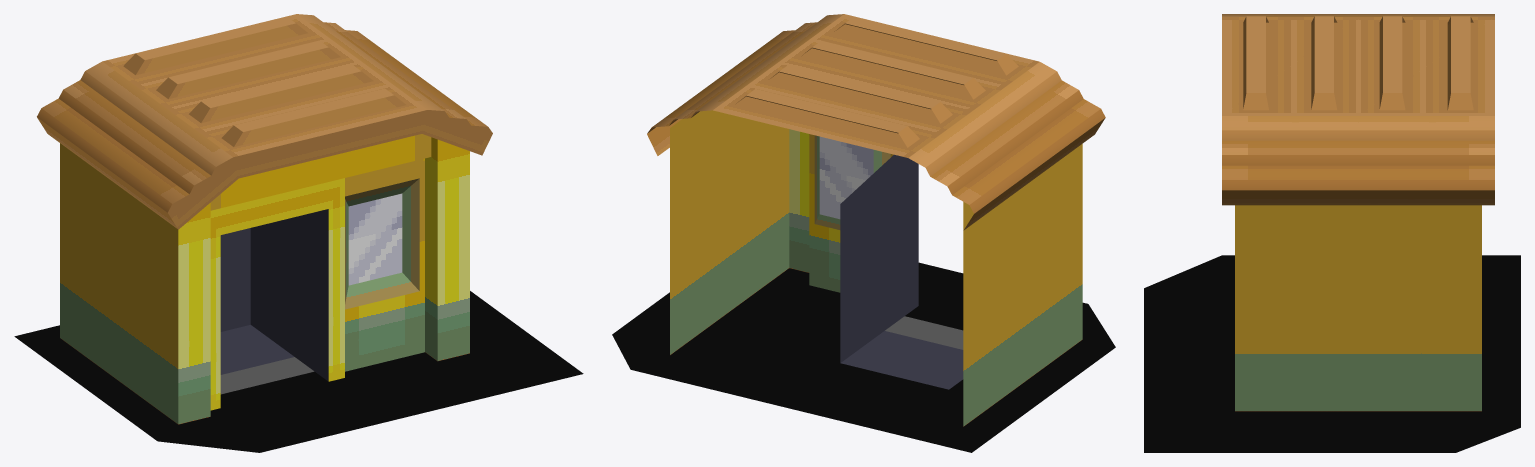
The model's file is mr._psychic_s_house_lev1.glb.
The picture shows the model from 3 angles, left to right: view 1: azimuth 30°, elevation 25°; view 2: azimuth 150°, elevation 25°; view 3: azimuth 270°, elevation 25°; orthographic projection. The views are drawn at different scales.
Parts seen in each view (by area): view 1: mr._psychic_s_house_lev1; view 2: mr._psychic_s_house_lev1; view 3: mr._psychic_s_house_lev1.
Boxes of the visible parts, x1,y1,x2,y2 form: mr._psychic_s_house_lev1: (14, 14, 583, 452); mr._psychic_s_house_lev1: (612, 14, 1115, 452); mr._psychic_s_house_lev1: (1144, 14, 1520, 452).
Bounding box in the file's own units: 22.68 × 15.44 × 18.27.
4 materials, 4 textured.
